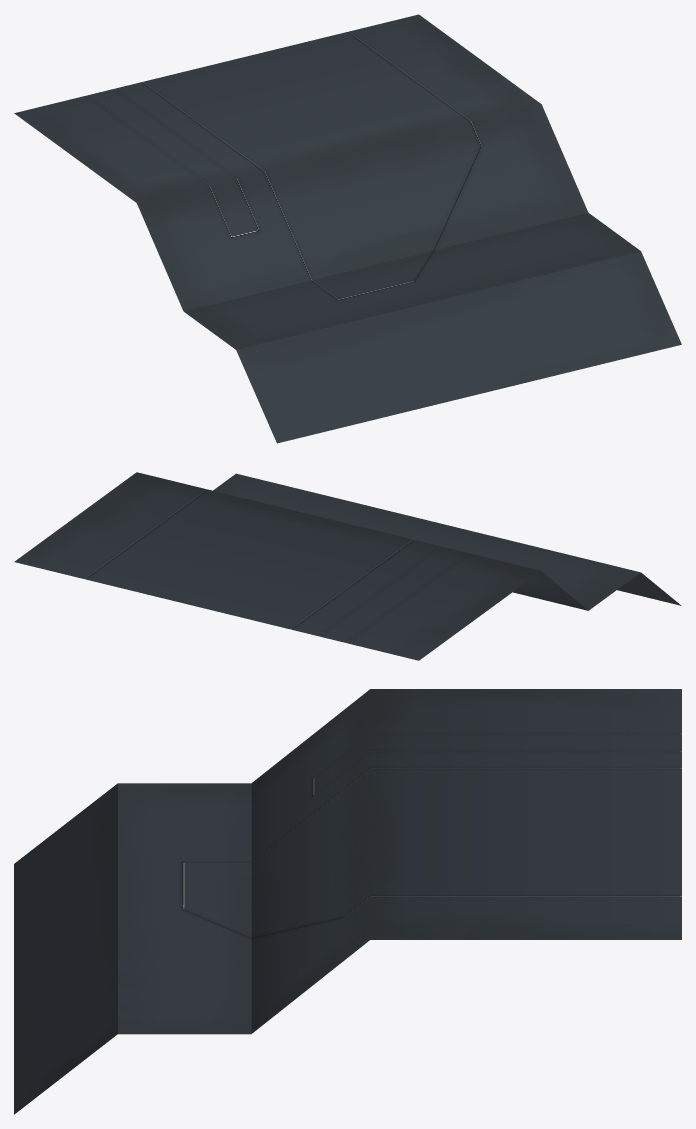
File: CeilingA.FBX
3 views of the same model, one above another, from view 1: azimuth 30°, elevation 25°; view 2: azimuth 150°, elevation 25°; view 3: azimuth 270°, elevation 25° (orthographic). The views are drawn at different scales.
Visible parts, largest first — view 1: CeilingPartA; view 2: CeilingPartA; view 3: CeilingPartA.
Part boxes in pixels (bbox=[...]): CeilingPartA: bbox=[14, 14, 681, 443]; CeilingPartA: bbox=[14, 472, 681, 660]; CeilingPartA: bbox=[14, 689, 681, 1114].
Size of the model in its own units: 400 by 130 by 450.
Materials: 1 (1 with a texture image).
